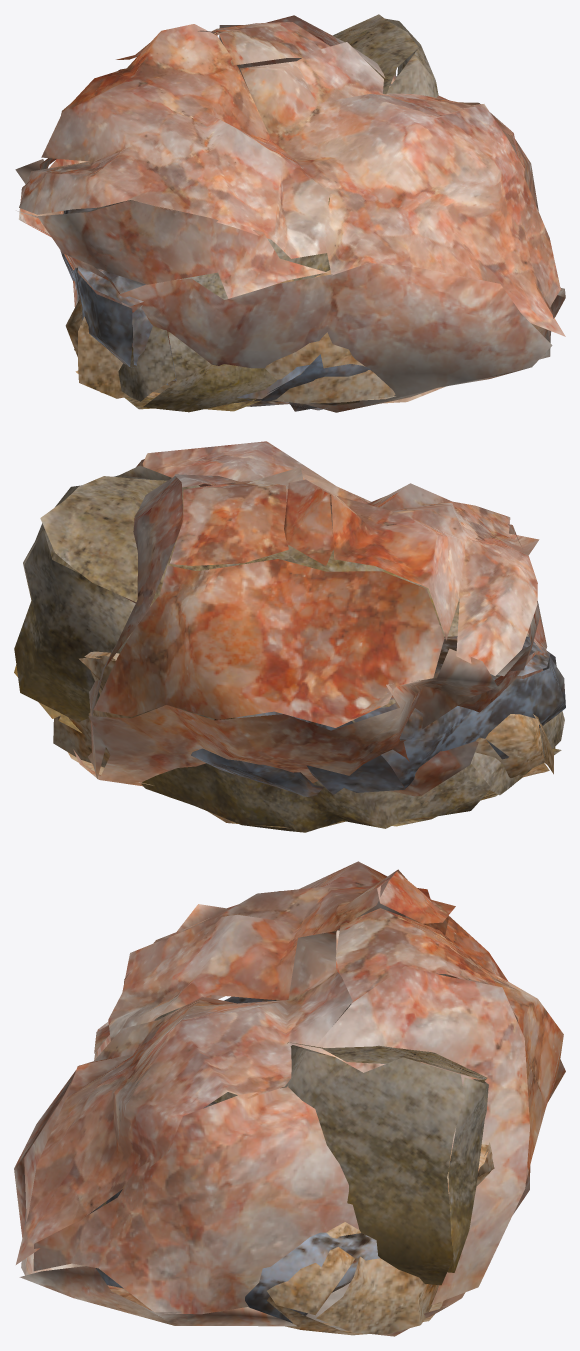
File: scatter_pebbles.gltf
3 views of the same model, one above another, from view 1: azimuth 30°, elevation 25°; view 2: azimuth 150°, elevation 25°; view 3: azimuth 270°, elevation 25° (orthographic). The views are drawn at different scales.
Visible parts, largest first — view 1: pebble_0, pebble_3, pebble_1, pebble_2; view 2: pebble_0, pebble_3, pebble_2, pebble_1; view 3: pebble_0, pebble_3, pebble_1, pebble_2.
Boxes of the visible parts, x1,y1,x2,y2 form: pebble_0: [15, 15, 565, 412]; pebble_3: [74, 14, 438, 412]; pebble_1: [65, 270, 395, 403]; pebble_2: [60, 200, 370, 411]; pebble_0: [73, 441, 547, 796]; pebble_3: [14, 465, 564, 832]; pebble_2: [191, 636, 565, 796]; pebble_1: [53, 651, 553, 785]; pebble_0: [14, 861, 565, 1336]; pebble_3: [100, 1005, 488, 1285]; pebble_1: [219, 1142, 494, 1335]; pebble_2: [88, 996, 379, 1323].
Size of the model in its own units: 0.2284 by 0.1516 by 0.2151.
1 material, 1 textured.
